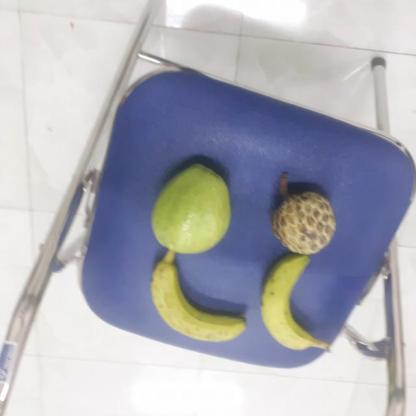annona: (268, 188, 336, 254)
banana: (145, 255, 247, 342), (256, 253, 326, 351)
guava: (147, 163, 231, 254)
